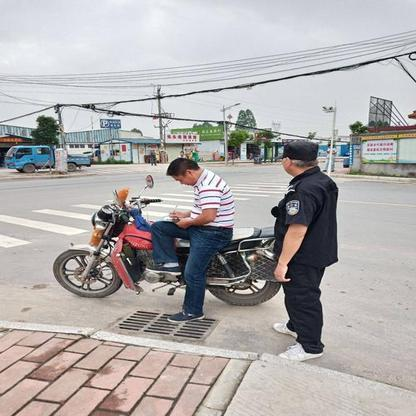target: (53, 156, 279, 321)
